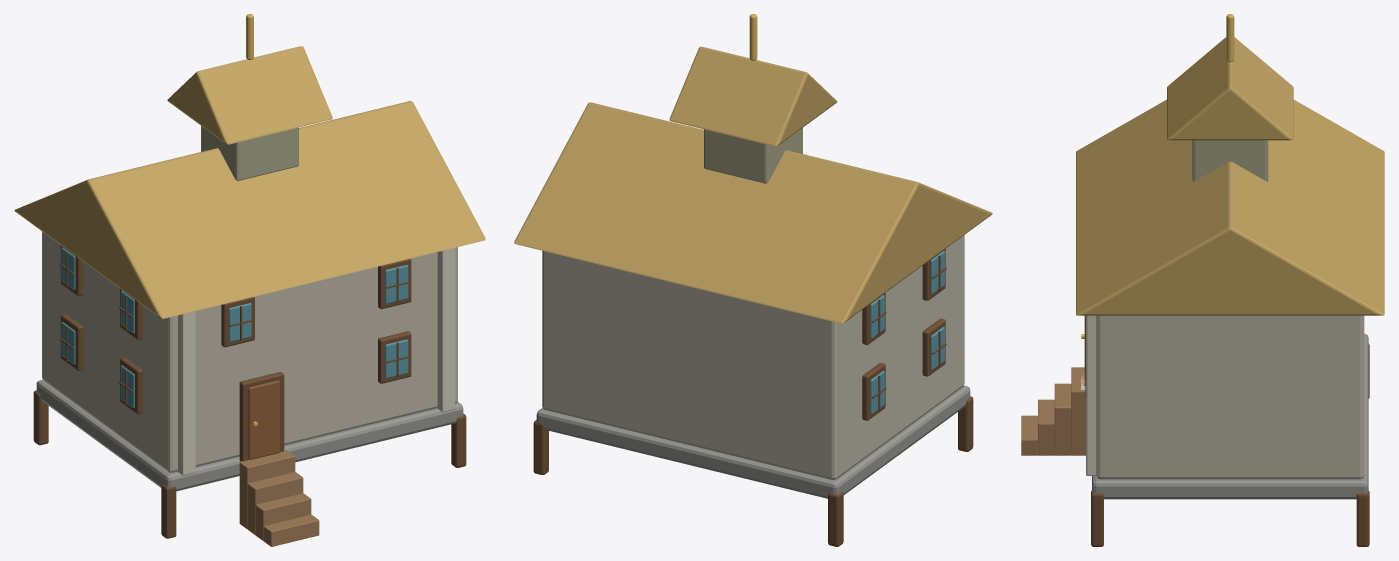
File: wetland-civic-0.glb
3 renders of one model, left to right at view 1: azimuth 30°, elevation 25°; view 2: azimuth 150°, elevation 25°; view 3: azimuth 270°, elevation 25°, orthographic. The views are drawn at different scales.
Parts seen in each view (by area): view 1: Golden thatch, Warm civic stone, Dark beams, Foundation stone, Cut limestone, Aged oak, Blue glass, Weathered planks, Door oak; view 2: Golden thatch, Warm civic stone, Foundation stone, Dark beams, Weathered planks, Blue glass; view 3: Golden thatch, Warm civic stone, Foundation stone, Aged oak, Weathered planks, Cut limestone, Dark beams, Warm brass.
Boxes of the visible parts, x1,y1,x2,y2 form: Golden thatch: (14, 46, 485, 318); Warm civic stone: (42, 231, 457, 472); Dark beams: (33, 245, 466, 538); Foundation stone: (36, 379, 463, 491); Cut limestone: (177, 248, 455, 475); Aged oak: (239, 450, 319, 546); Blue glass: (61, 247, 408, 407); Weathered planks: (201, 126, 298, 180); Door oak: (248, 380, 279, 459); Golden thatch: (514, 46, 992, 323); Warm civic stone: (542, 235, 964, 479); Foundation stone: (536, 385, 970, 498); Dark beams: (533, 249, 973, 546); Weathered planks: (704, 128, 802, 183); Blue glass: (870, 251, 944, 414); Golden thatch: (1076, 37, 1384, 315); Warm civic stone: (1096, 315, 1364, 479); Foundation stone: (1092, 333, 1368, 499); Aged oak: (1021, 367, 1085, 455); Weathered planks: (1192, 140, 1268, 181); Cut limestone: (1081, 315, 1096, 475); Dark beams: (1085, 315, 1369, 546); Warm brass: (1081, 14, 1234, 338).
Bounding box in the file's own units: 5.4 × 6.95 × 5.02.
